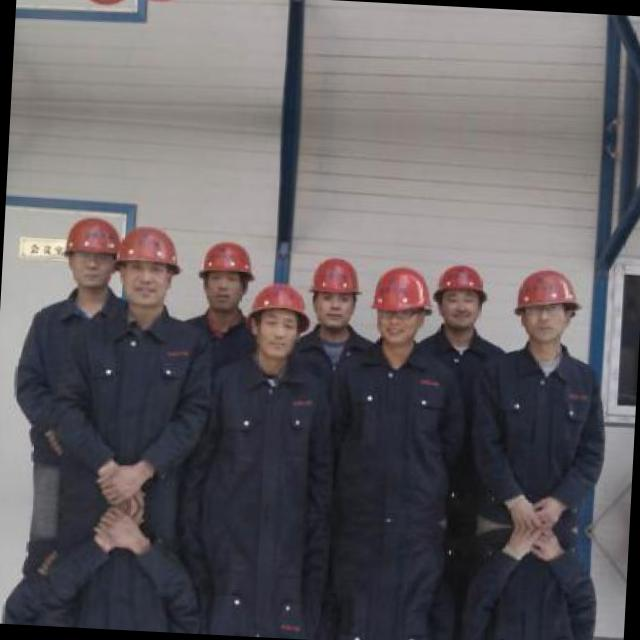helmet: (506, 264, 582, 348), (111, 221, 183, 308), (241, 276, 313, 358), (368, 263, 434, 345), (57, 212, 122, 290), (194, 235, 258, 312), (305, 249, 363, 333), (430, 256, 490, 331), (71, 0, 135, 11)
